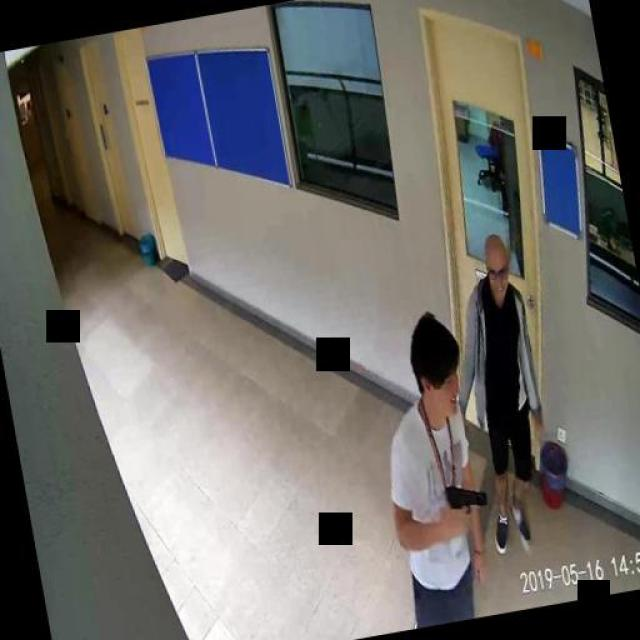gun: (441, 476, 490, 536)
